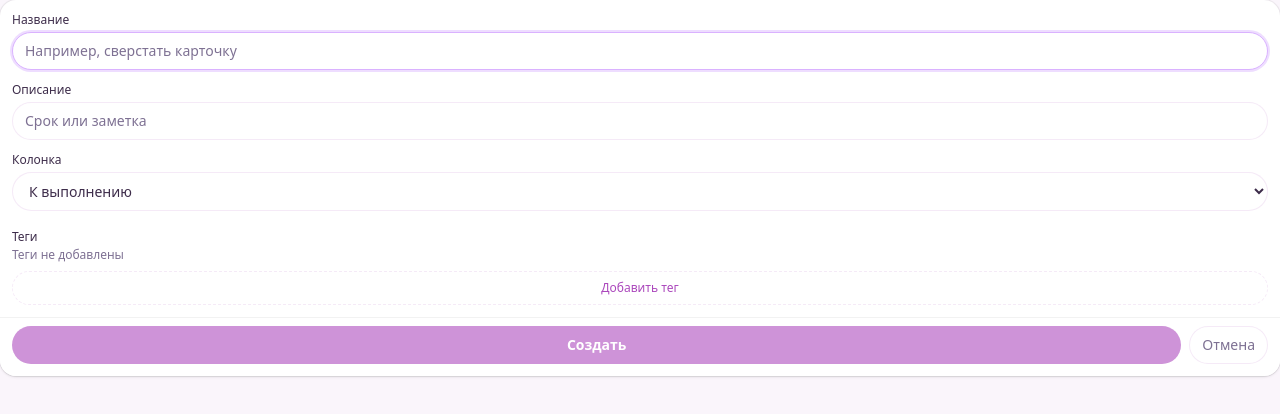
TaskForm › create mode › shows validation error when title is empty
Click the button "Создать" at x=597, y=345, box [12, 326, 1181, 364]
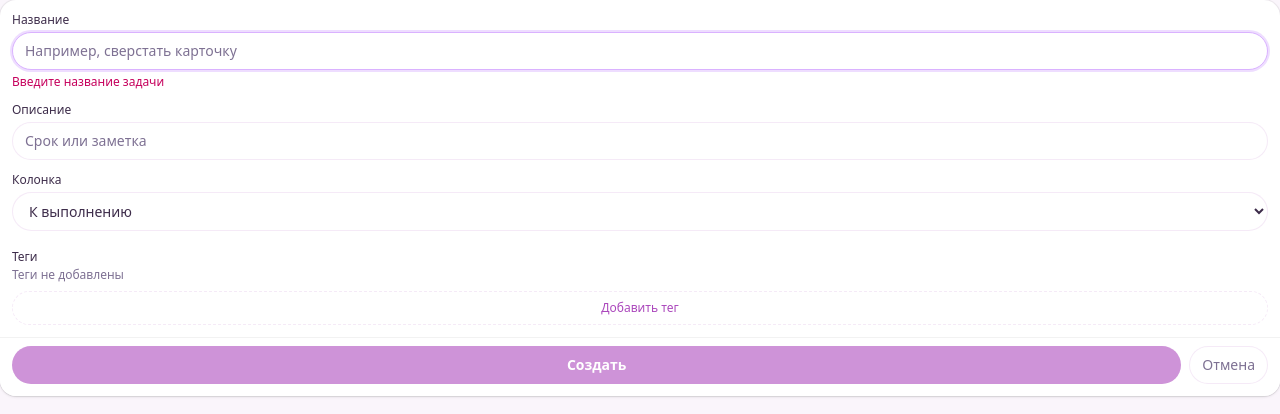
Now the text "Введите название задачи" is shown, box [12, 73, 164, 90]
